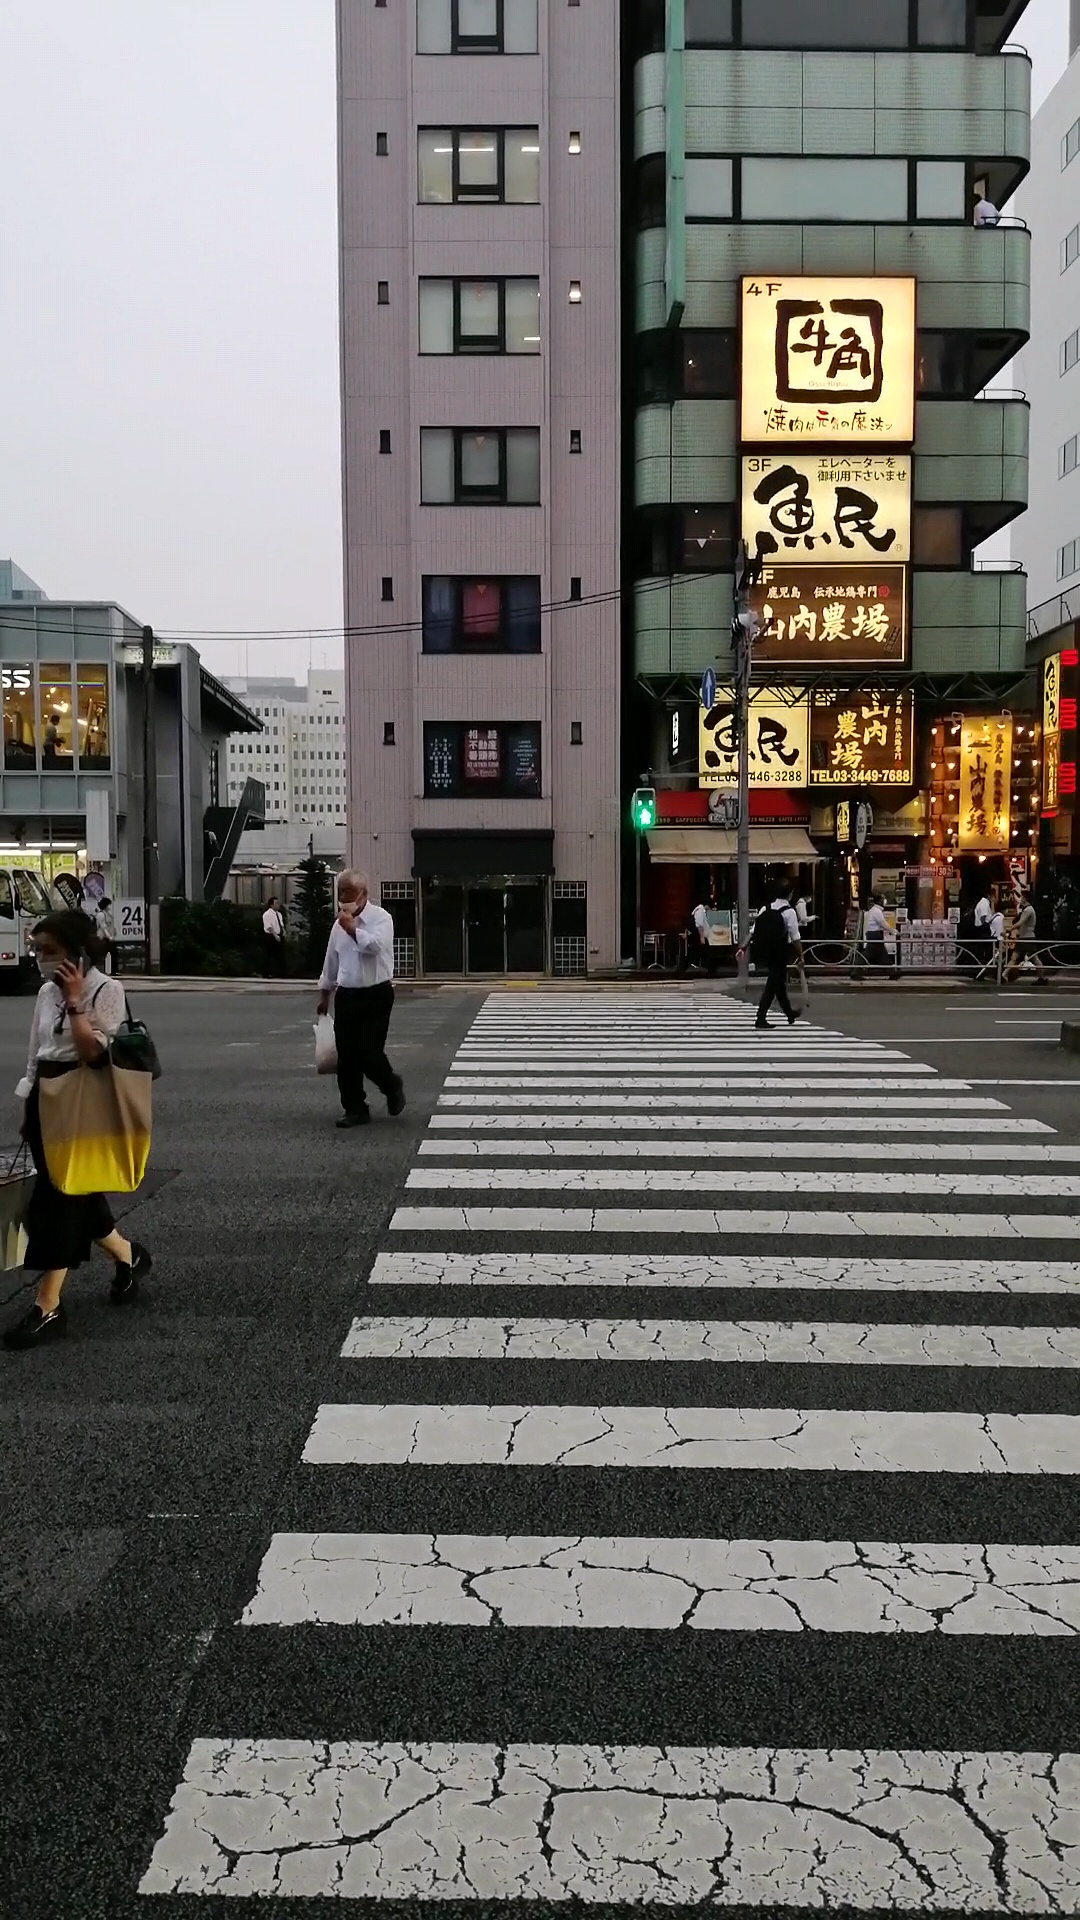green: (633, 787, 655, 827)
